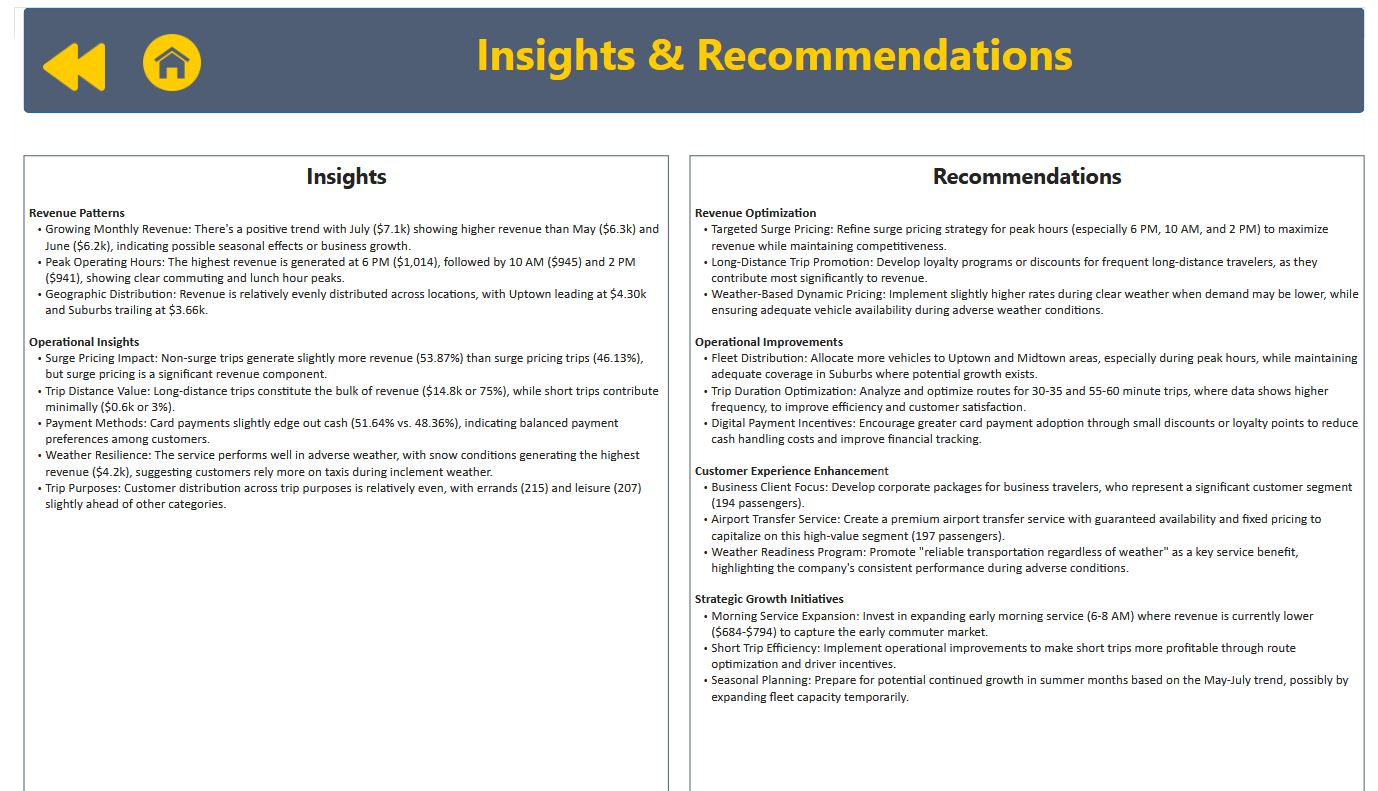

The dashboard page shown, as its layout file describes it:
{"tool":"powerbi","page":{"name":"Insights & Recommendations","canvas":[1500,900],"ordinal":3},"visuals":[{"type":"shape","box":[9.8,0,1490.7,117.2],"z":0},{"type":"textbox","box":[386.8,11.7,914.3,76.2],"z":1000},{"type":"textbox","box":[9.8,164.1,717,717],"z":2000},{"type":"textbox","box":[750.2,164.1,750.2,717],"z":3000},{"type":"image","box":[124.4,24.1,101.6,74.2],"z":4000},{"type":"image","box":[26.7,24.1,78.1,84],"z":5000}]}

Visuals, with their boxes in screenshot pixels (x1, y1, x2, y2):
shape: [x1=23, y1=4, x2=1360, y2=109]
textbox: [x1=361, y1=14, x2=1181, y2=82]
textbox: [x1=23, y1=151, x2=666, y2=790]
textbox: [x1=687, y1=151, x2=1360, y2=790]
image: [x1=126, y1=25, x2=217, y2=92]
image: [x1=38, y1=25, x2=108, y2=101]
